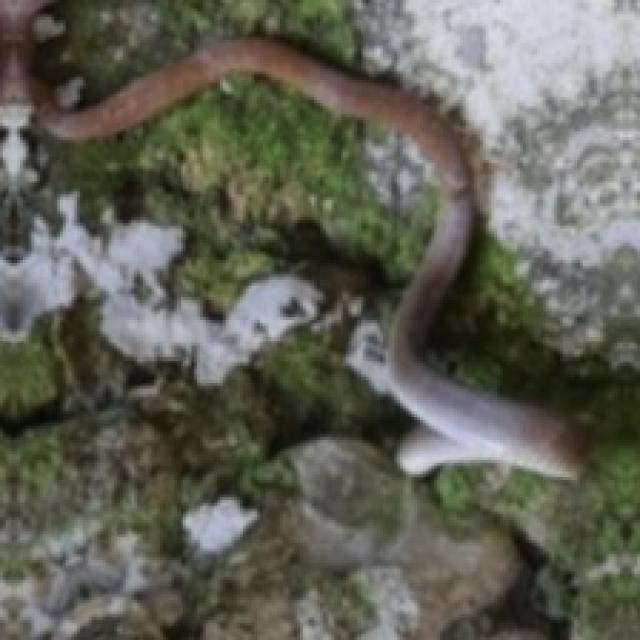reddish rat snake: (0, 0, 583, 477)
